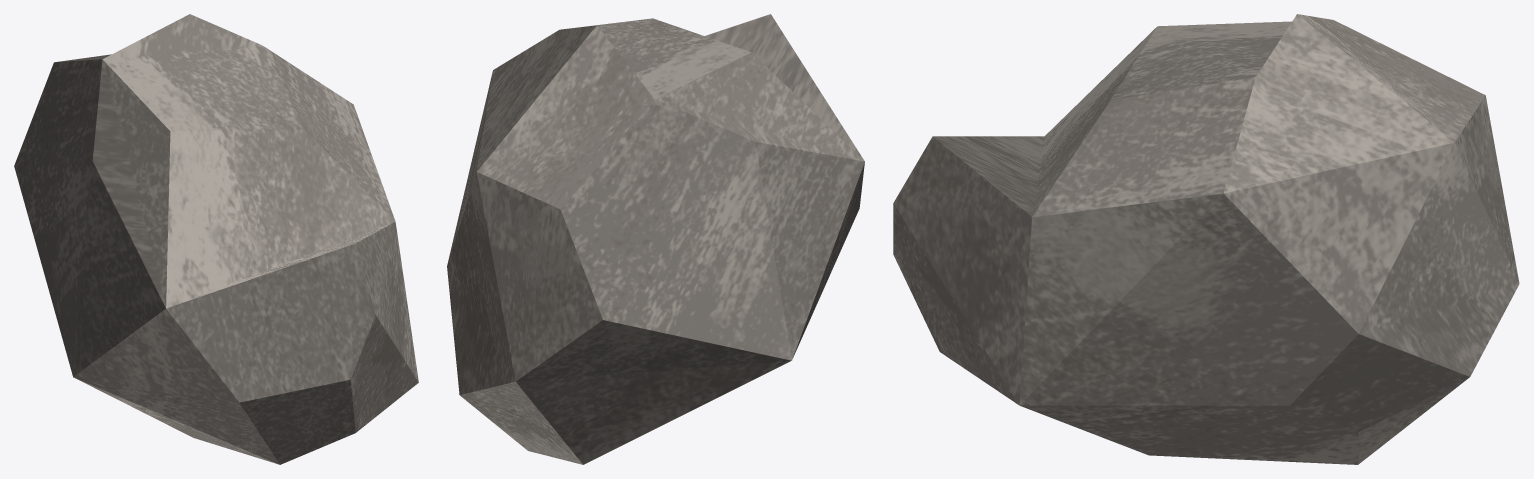
Rendered from Piedra8.fbx.
3 renders of one model, left to right at view 1: azimuth 30°, elevation 25°; view 2: azimuth 150°, elevation 25°; view 3: azimuth 270°, elevation 25°, orthographic. The views are drawn at different scales.
Parts seen in each view (by area): view 1: Piedra 7; view 2: Piedra 7; view 3: Piedra 7.
Boxes of the visible parts, x1,y1,x2,y2 form: Piedra 7: (14,14,418,464); Piedra 7: (447,14,864,464); Piedra 7: (893,14,1519,464).
Size of the model in its own units: 179 by 237 by 312.
